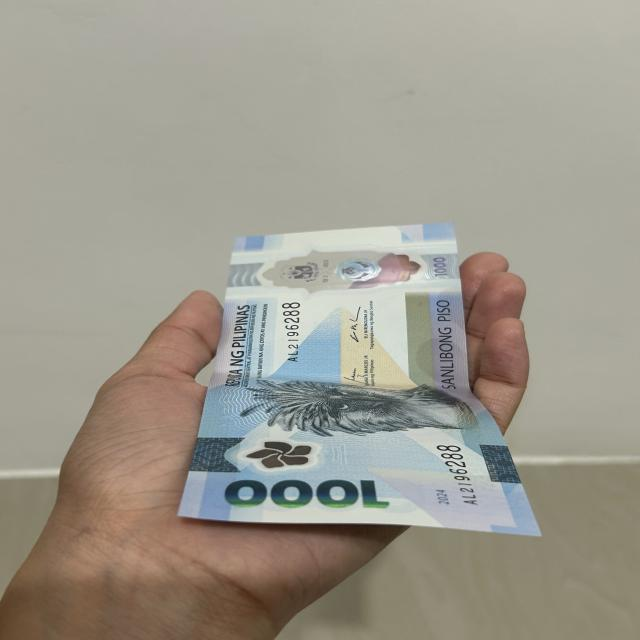clear_window: (263, 244, 427, 296)
eagle: (235, 369, 466, 432)
sampaguita: (248, 440, 317, 472)
serial_number: (436, 438, 490, 508)
